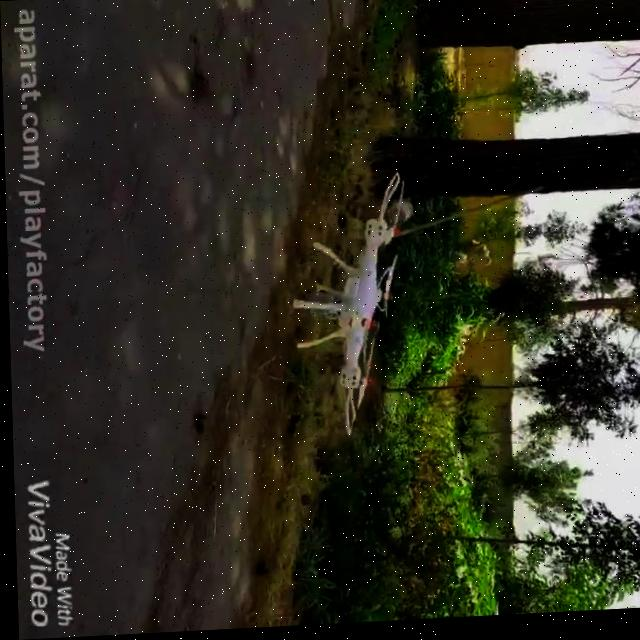drone: (287, 174, 410, 438)
